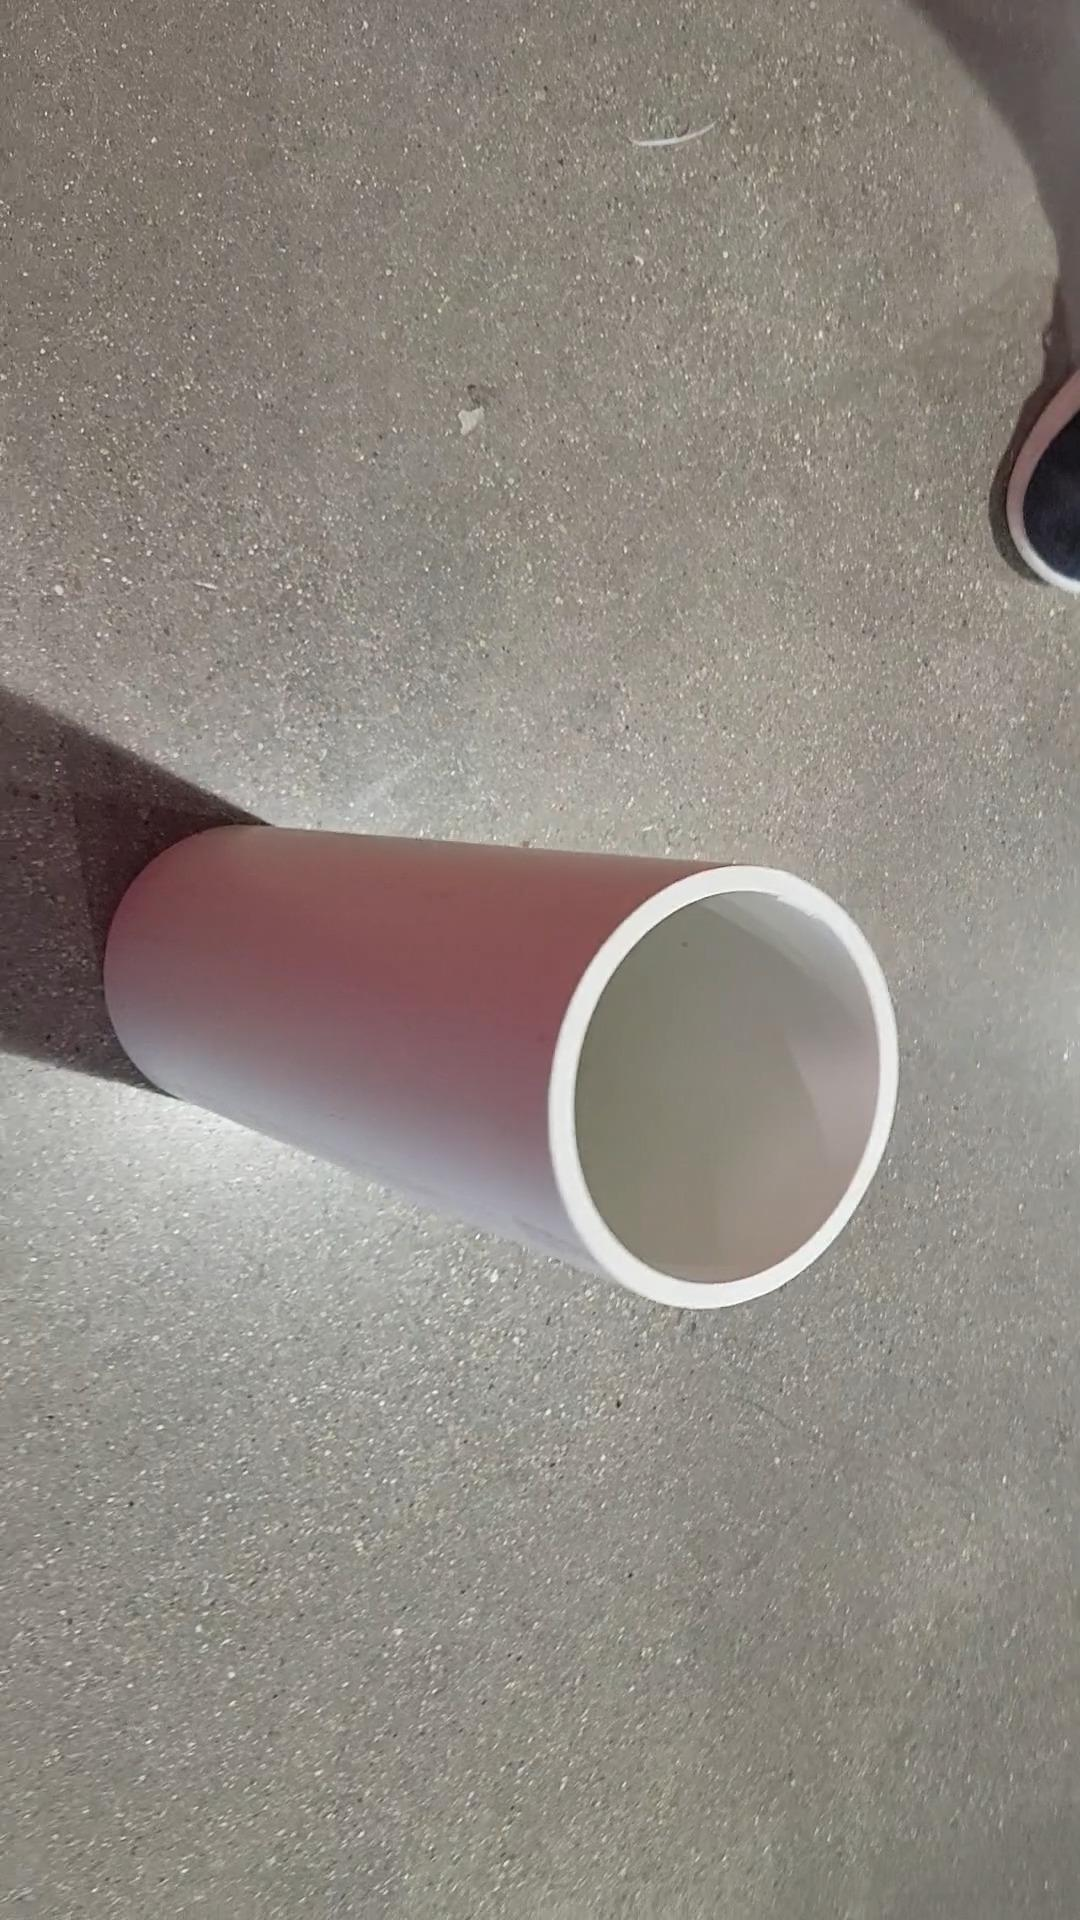coral: (107, 811, 903, 1300)
